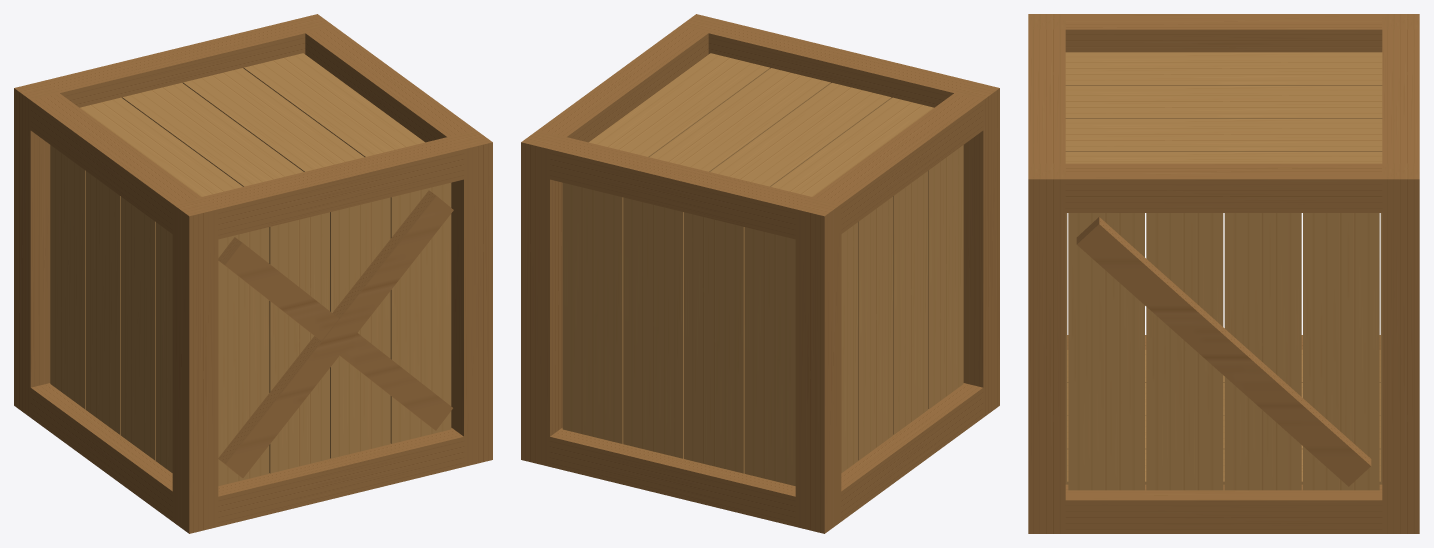
Rendered from crate.glb.
The picture shows the model from 3 angles, left to right: view 1: azimuth 30°, elevation 25°; view 2: azimuth 150°, elevation 25°; view 3: azimuth 270°, elevation 25°; orthographic projection. The views are drawn at different scales.
Visible parts, largest first — view 1: crate; view 2: crate; view 3: crate.
Boxes of the visible parts, x1=… form: crate: x1=14, y1=14, x2=492, y2=533; crate: x1=521, y1=14, x2=999, y2=533; crate: x1=1028, y1=14, x2=1419, y2=533.
Size of the model in its own units: 0.82 by 0.82 by 0.82.
Materials: 2 (2 with a texture image).
